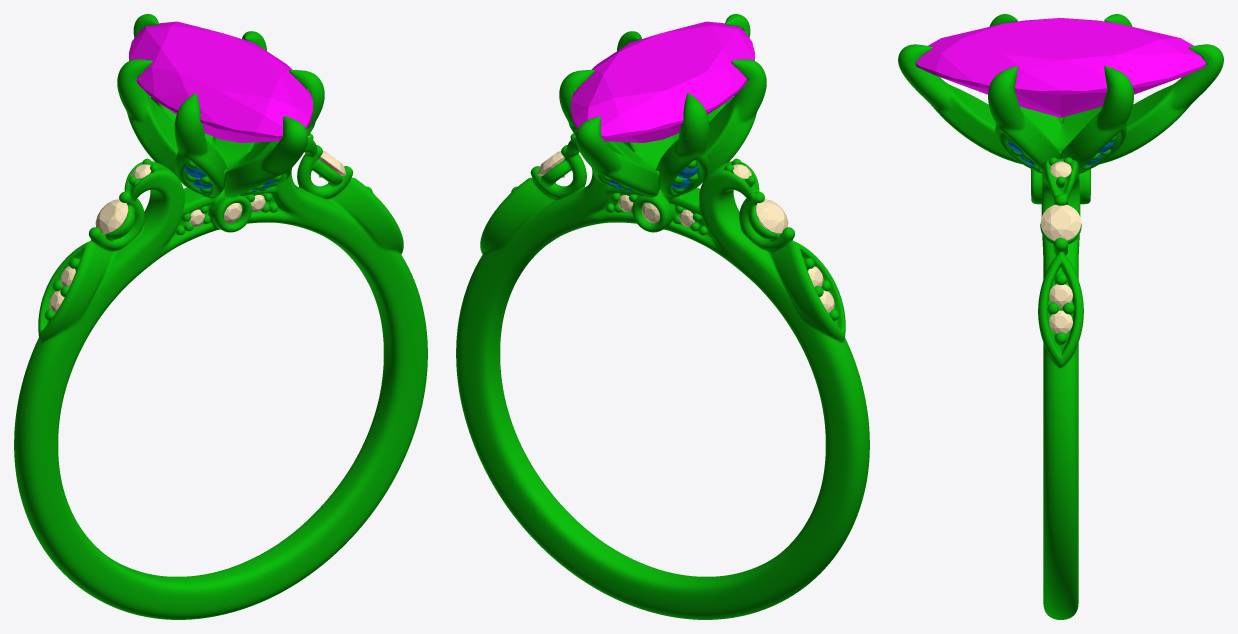
File: BE1D8282_MQ_200ct_RENDER.glb
3 views of the same model, side by side, from view 1: azimuth 30°, elevation 25°; view 2: azimuth 150°, elevation 25°; view 3: azimuth 270°, elevation 25° (orthographic).
Parts seen in each view (by area): view 1: Metal 01, CS_Diamond_Marquise, Diamond_Round_Gem_SH.007; view 2: Metal 01, CS_Diamond_Marquise, Diamond_Round_Gem_SH.007; view 3: Metal 01, CS_Diamond_Marquise, Diamond_Round_Gem_SH.
Boxes of the visible parts, x1=… form: Metal 01: x1=14, y1=14, x2=427, y2=619; CS_Diamond_Marquise: x1=129, y1=21, x2=312, y2=142; Diamond_Round_Gem_SH.007: x1=95, y1=199, x2=128, y2=233; Metal 01: x1=456, y1=14, x2=869, y2=619; CS_Diamond_Marquise: x1=571, y1=21, x2=754, y2=142; Diamond_Round_Gem_SH.007: x1=755, y1=199, x2=788, y2=233; Metal 01: x1=898, y1=14, x2=1223, y2=619; CS_Diamond_Marquise: x1=915, y1=18, x2=1206, y2=117; Diamond_Round_Gem_SH: x1=1040, y1=204, x2=1081, y2=240.
Bounding box in the file's own units: 20.09 × 25.94 × 13.72.
